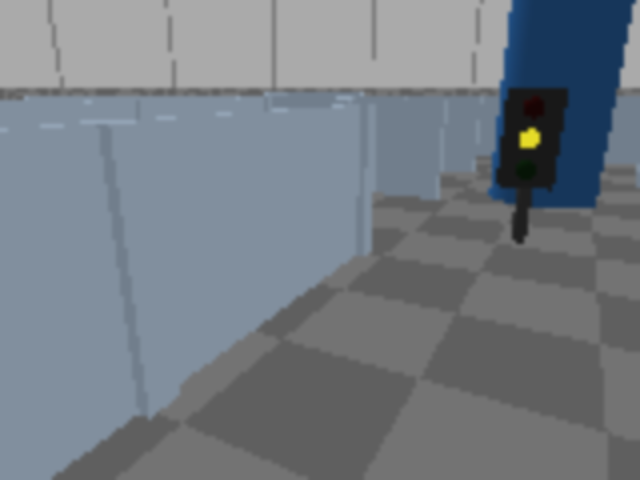traffic_light: (489, 79, 570, 251)
